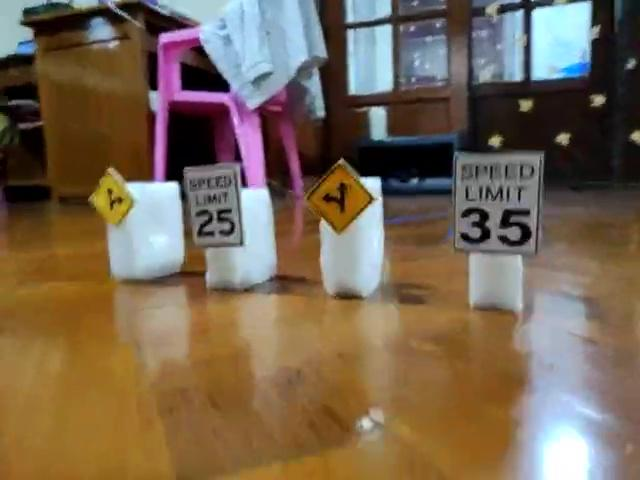Speed Limit 25: (184, 164, 246, 251)
Speed Limit 35: (453, 153, 547, 256)
Straight Or Left Sign: (306, 162, 375, 237)
Straight Or Right Sign: (86, 168, 139, 228)
